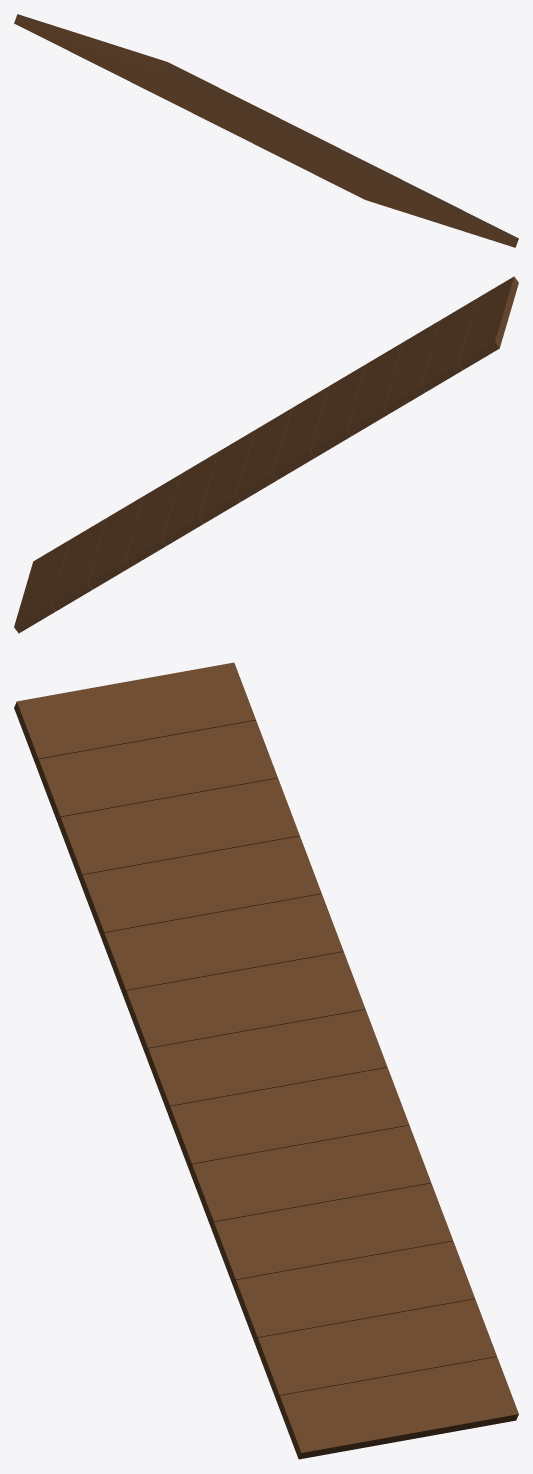
File: Wooden_Stairs_002.fbx
The picture shows the model from 3 angles, top to bottom: view 1: azimuth 30°, elevation 25°; view 2: azimuth 150°, elevation 25°; view 3: azimuth 270°, elevation 25°; orthographic projection. The views are drawn at different scales.
Visible parts, largest first — view 1: Wooden Stairs; view 2: Wooden Stairs; view 3: Wooden Stairs.
Boxes of the visible parts, x1,y1,x2,y2 form: Wooden Stairs: (14,14,518,247); Wooden Stairs: (14,276,518,633); Wooden Stairs: (14,662,518,1459).
Size of the model in its own units: 6.25 by 4.26 by 4.09.
